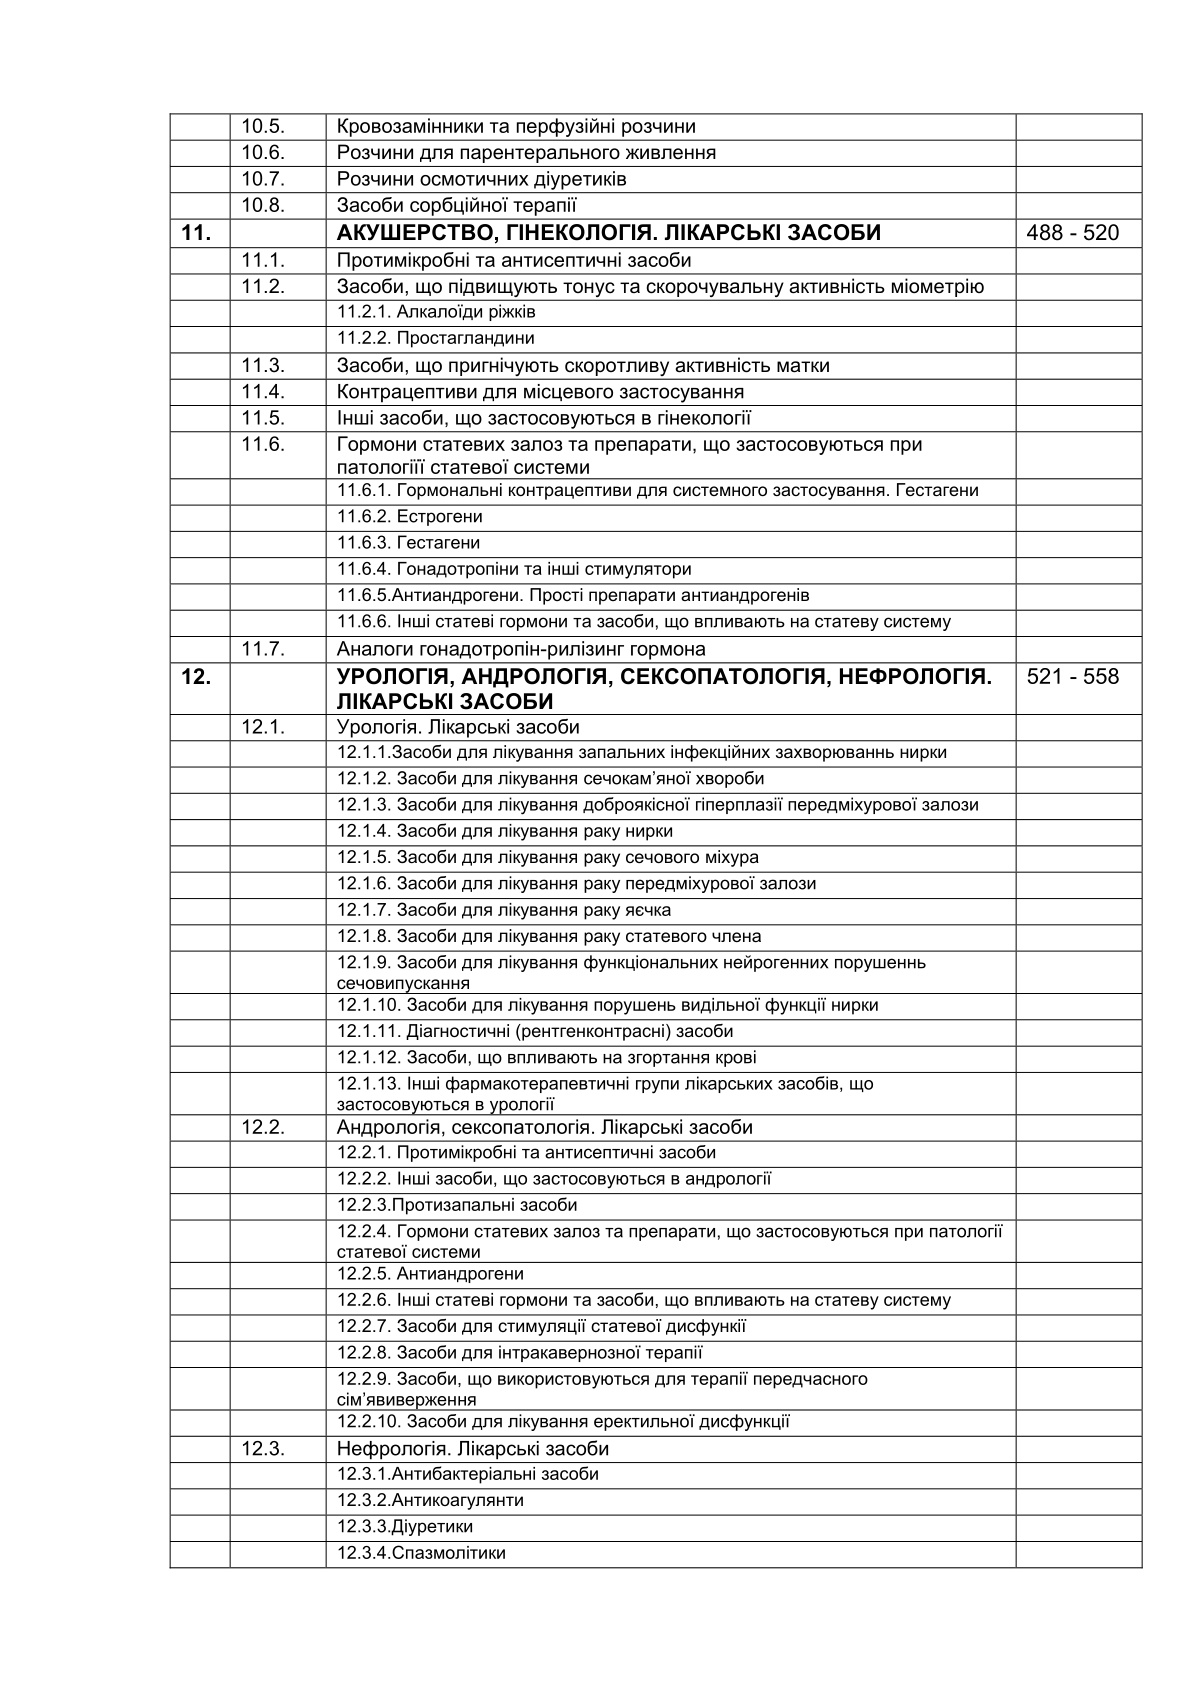full_lined: (169, 111, 1145, 1569)
